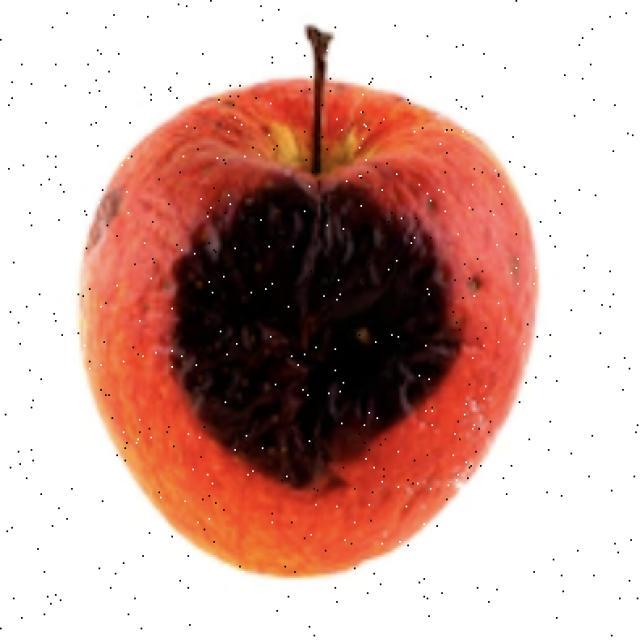Rotten: (82, 65, 538, 573)
